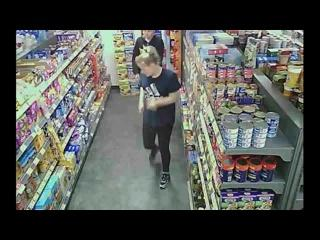Normal: (136, 46, 182, 191), (132, 30, 164, 76)
